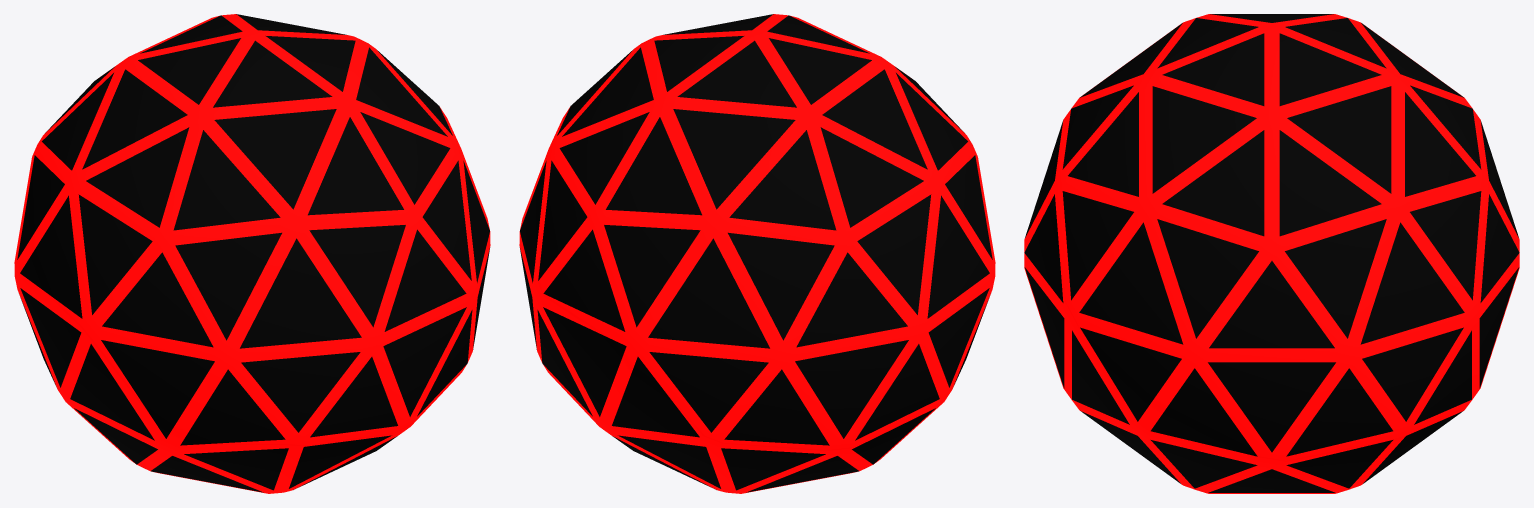
File: CoreRojo.FBX
3 renders of one model, left to right at view 1: azimuth 30°, elevation 25°; view 2: azimuth 150°, elevation 25°; view 3: azimuth 270°, elevation 25°, orthographic. The views are drawn at different scales.
Visible parts, largest first — view 1: GeoSphere002; view 2: GeoSphere002; view 3: GeoSphere002.
Part boxes in pixels (left/top/right/bottom): GeoSphere002: left=14, top=14, right=490, bottom=493; GeoSphere002: left=519, top=14, right=995, bottom=493; GeoSphere002: left=1024, top=14, right=1519, bottom=493.
Size of the model in its own units: 9.52 by 9.86 by 9.82.
